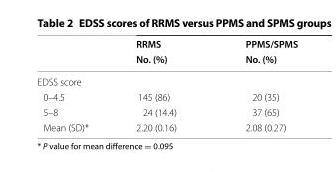table: (36, 36, 297, 132)
table column: (111, 36, 210, 132), (210, 36, 297, 132), (36, 36, 111, 132)
table column header: (36, 36, 297, 70)
table projected row header: (36, 70, 297, 88)
table row: (36, 50, 297, 70), (36, 70, 297, 88), (36, 88, 297, 104), (36, 104, 297, 119), (36, 36, 297, 50), (36, 119, 297, 132)
table spanning cell: (111, 36, 210, 70), (210, 36, 297, 70)
